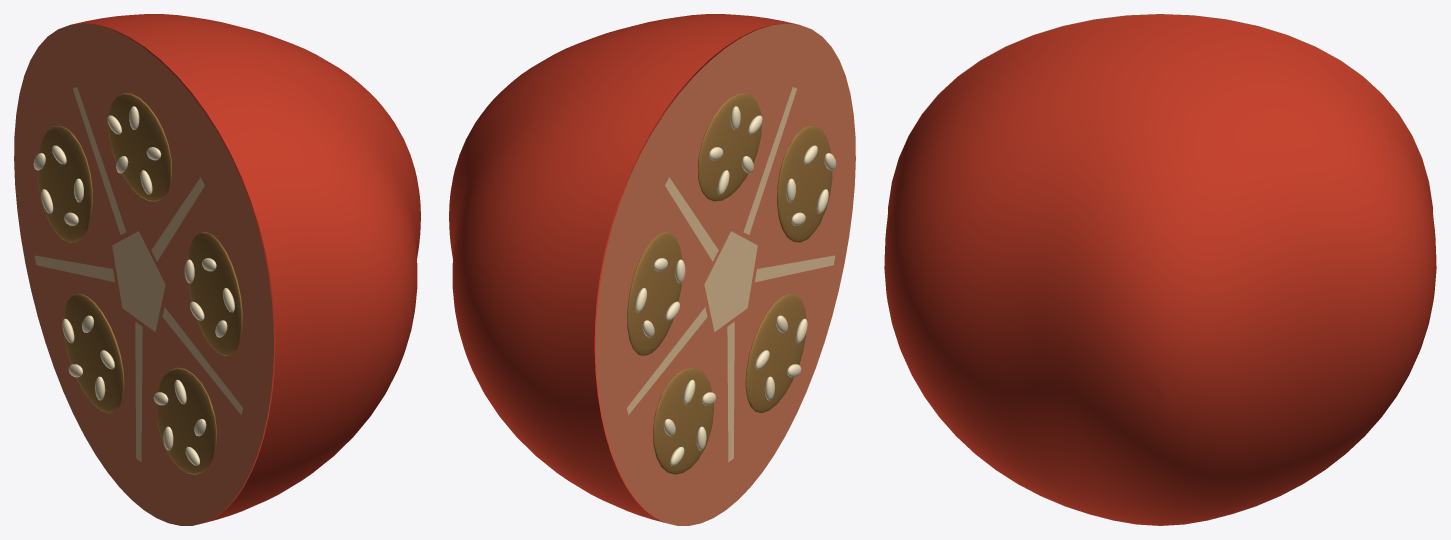
File: better_boy_half.glb
3 renders of one model, left to right at view 1: azimuth 30°, elevation 25°; view 2: azimuth 150°, elevation 25°; view 3: azimuth 270°, elevation 25°, orthographic. The views are drawn at different scales.
Visible parts, largest first — view 1: Prepared Better Boy half, Five-chamber Better Boy copper flesh, Five full Better Boy amber locules, Better Boy pentagonal pale core, Individually modeled Better Boy cream seed; view 2: Prepared Better Boy half, Five-chamber Better Boy copper flesh, Five full Better Boy amber locules, Better Boy pentagonal pale core, Individually modeled Better Boy cream seed; view 3: Prepared Better Boy half, Five-chamber Better Boy copper flesh.
Boxes of the visible parts, x1,y1,x2,y2 form: Prepared Better Boy half: (72, 14, 420, 522); Five-chamber Better Boy copper flesh: (14, 23, 273, 525); Five full Better Boy amber locules: (37, 93, 242, 474); Better Boy pentagonal pale core: (34, 87, 242, 462); Individually modeled Better Boy cream seed: (33, 106, 234, 465); Prepared Better Boy half: (449, 14, 797, 522); Five-chamber Better Boy copper flesh: (596, 23, 855, 525); Five full Better Boy amber locules: (627, 93, 832, 474); Better Boy pentagonal pale core: (627, 87, 835, 462); Individually modeled Better Boy cream seed: (635, 106, 836, 465); Prepared Better Boy half: (884, 14, 1436, 525); Five-chamber Better Boy copper flesh: (888, 14, 1432, 206).
Bounding box in the file's own units: 0.8454 × 1.36 × 1.4.
